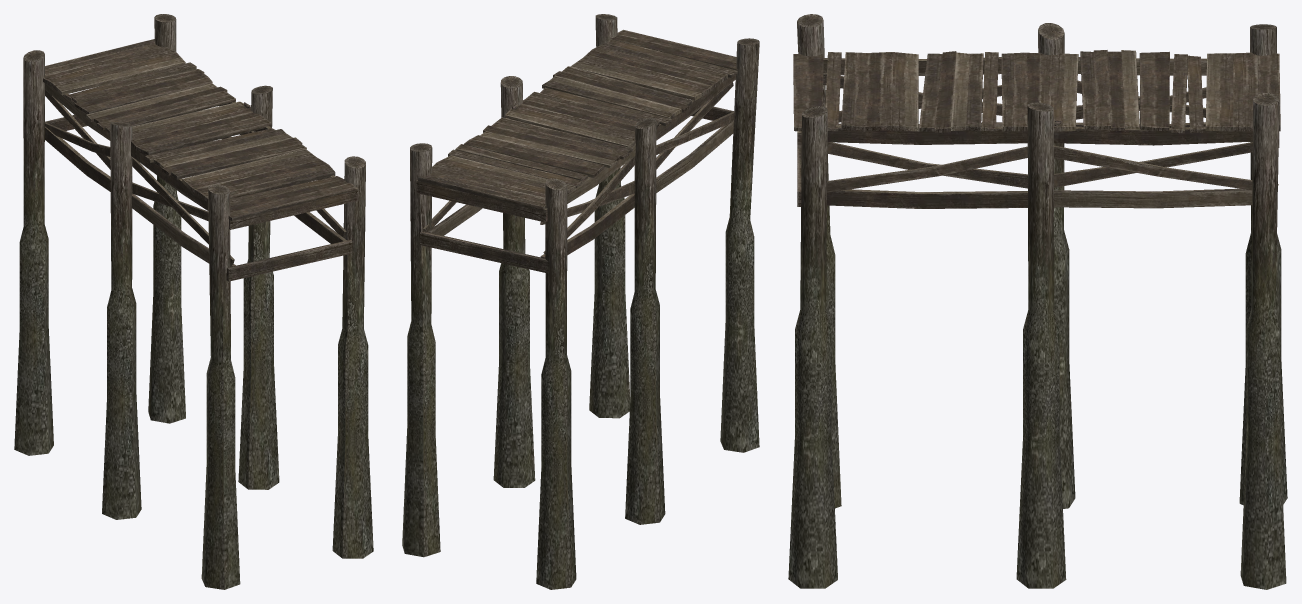
The model's file is eso_gu3_wooddocks9-transformed.glb.
3 views of the same model, side by side, from view 1: azimuth 30°, elevation 25°; view 2: azimuth 150°, elevation 25°; view 3: azimuth 270°, elevation 25° (orthographic). The views are drawn at different scales.
Visible parts, largest first — view 1: default; view 2: default; view 3: default.
Part boxes in pixels (x1,y1,x2,y2): default: (14,14,373,589); default: (402,14,759,589); default: (788,14,1287,589).
Size of the model in its own units: 9.61 by 21.72 by 20.44.
Materials: 1 (1 with a texture image).
